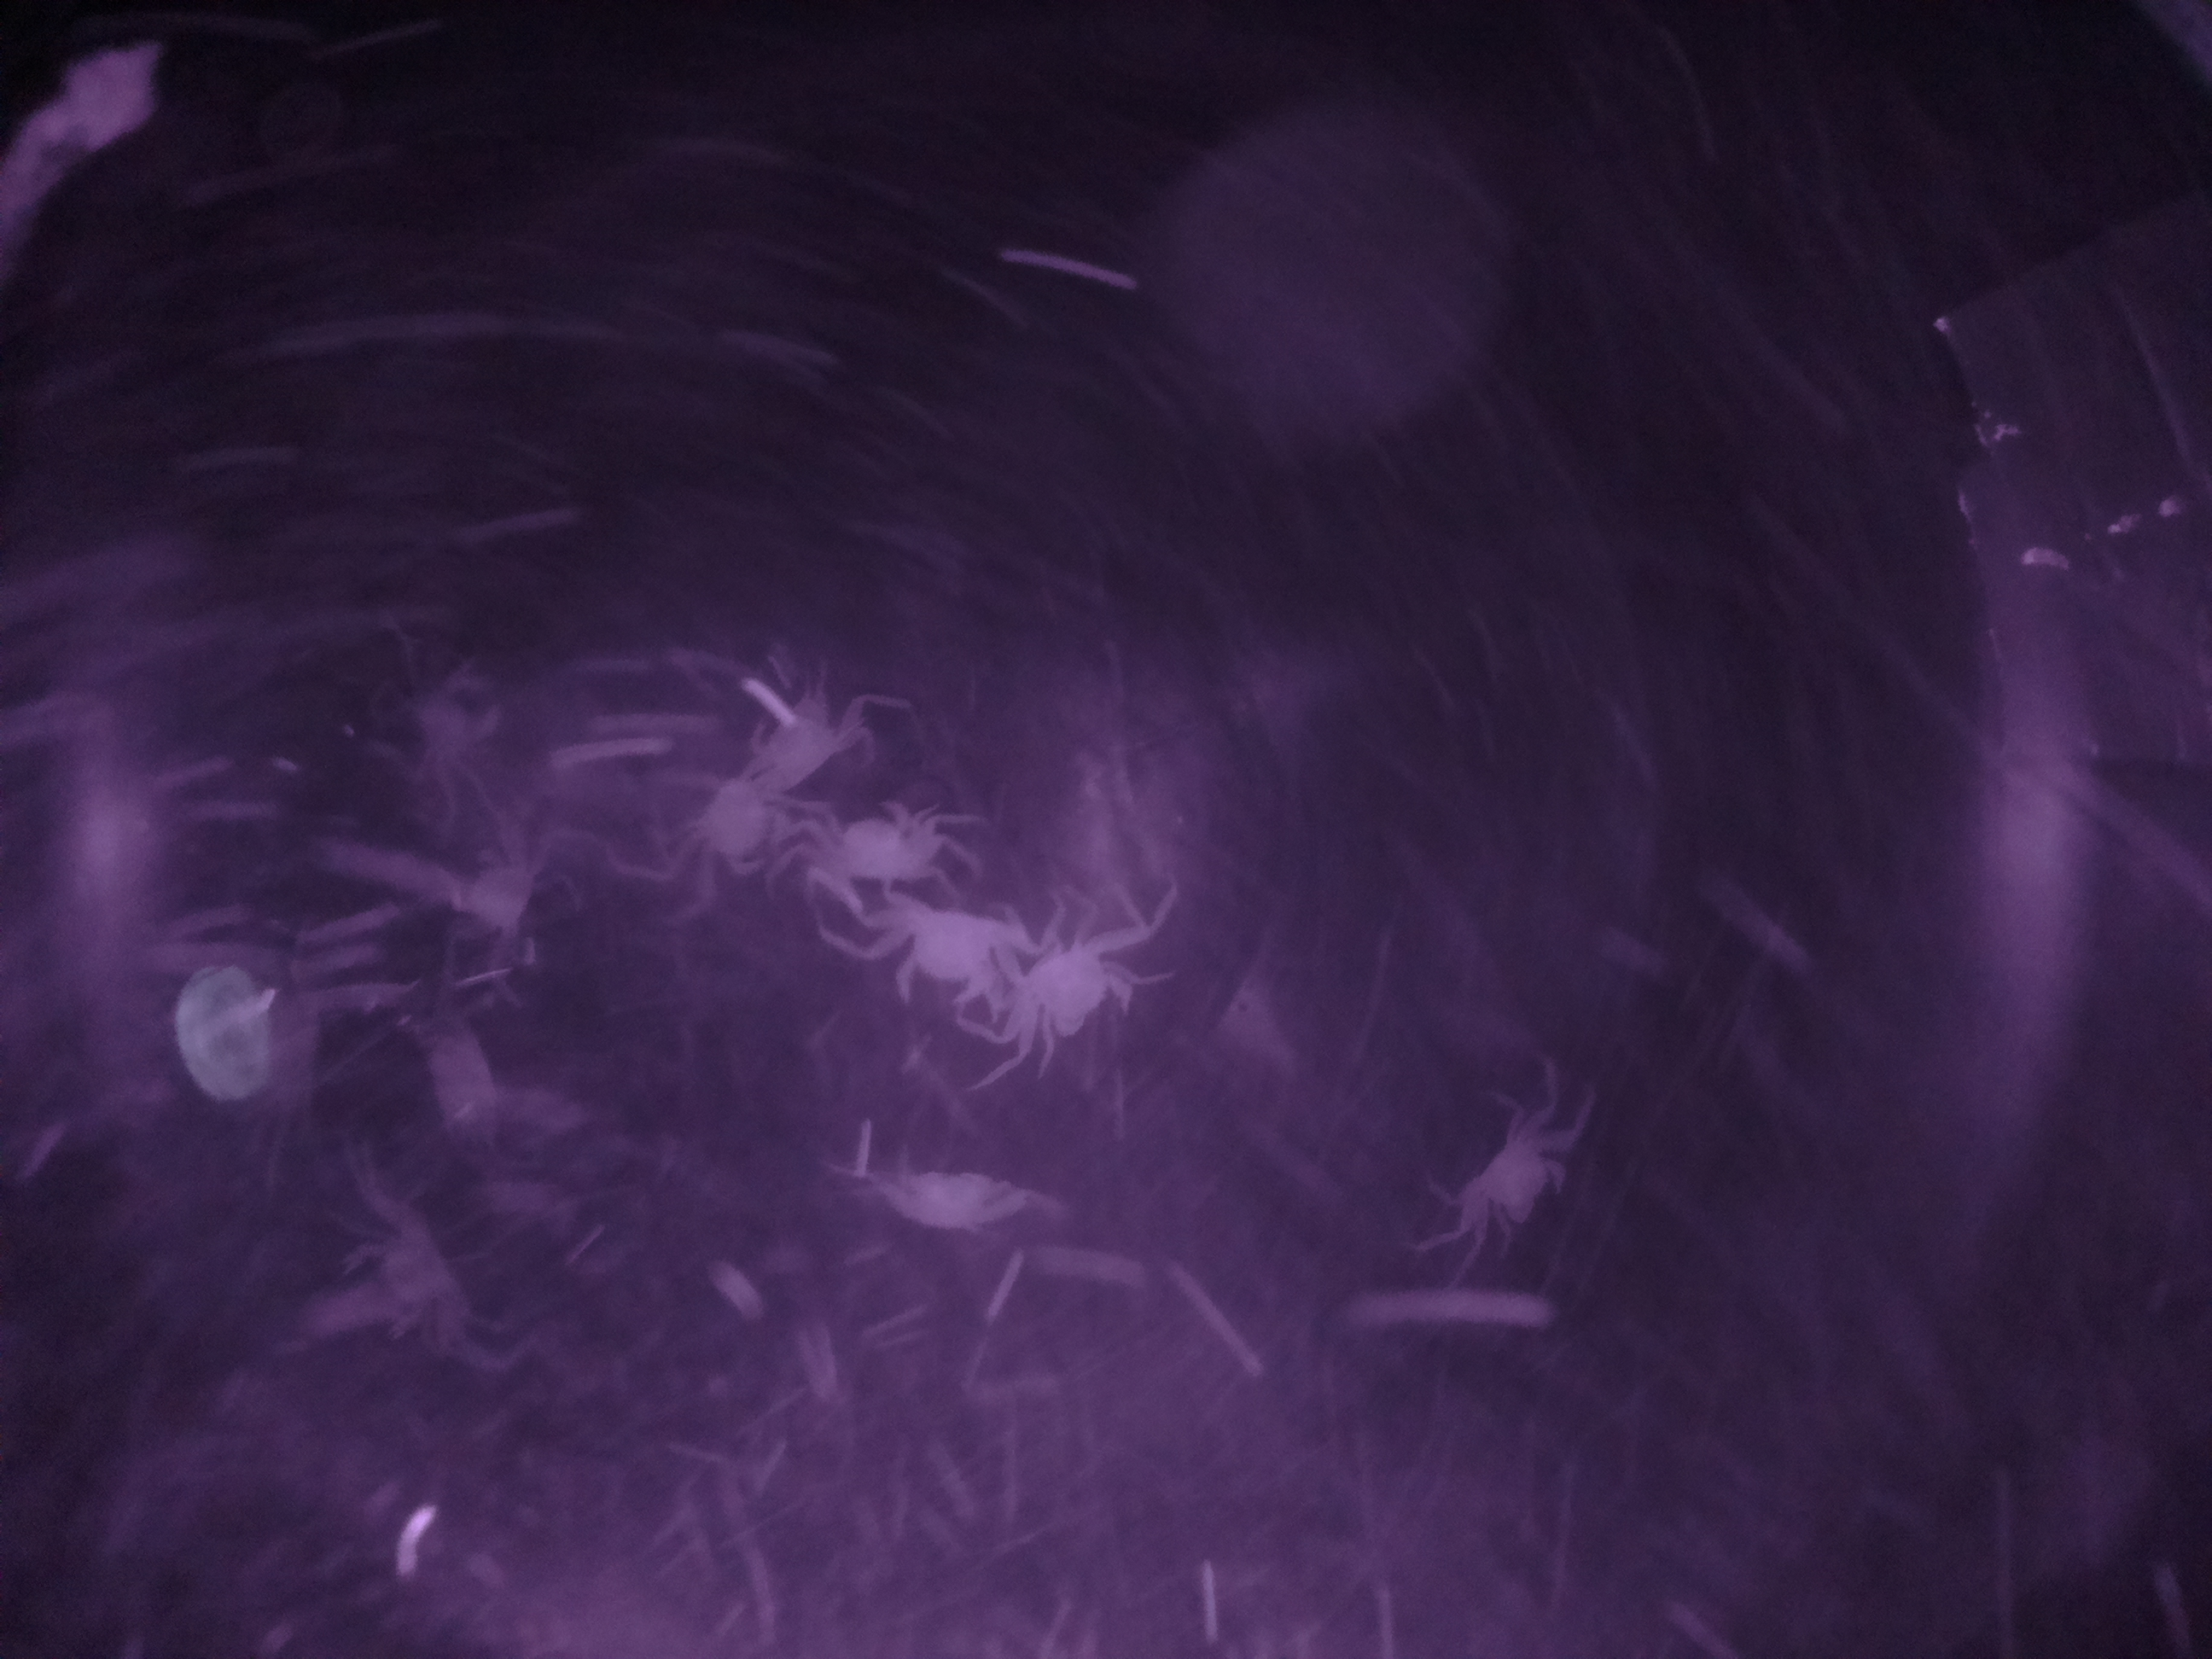Crab: (1440, 1108, 1583, 1249), (874, 889, 1035, 1014)
